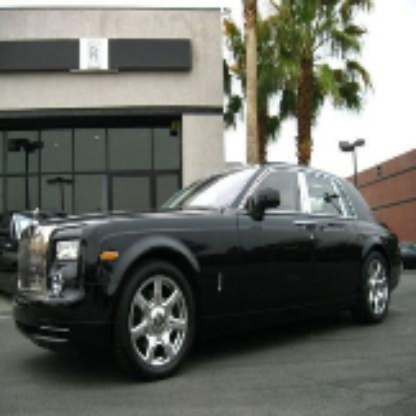Vehicle: (7, 152, 410, 394)
